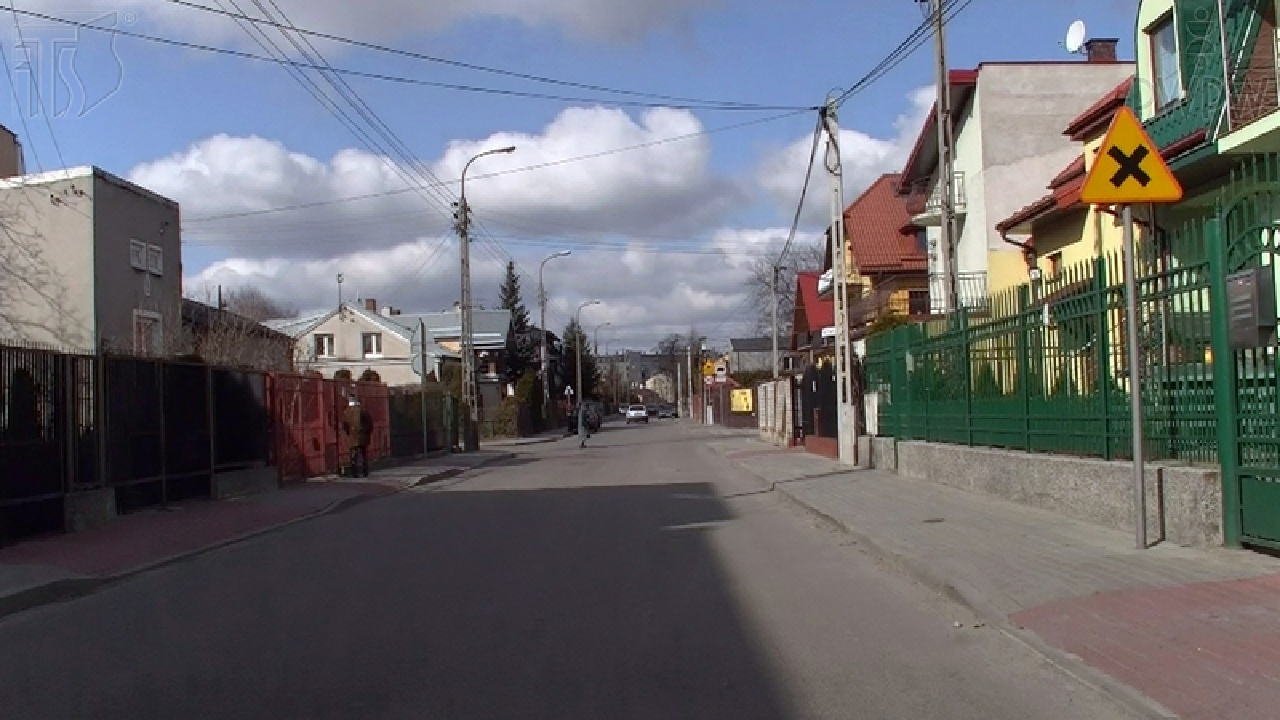A5: (1076, 105, 1186, 206)
